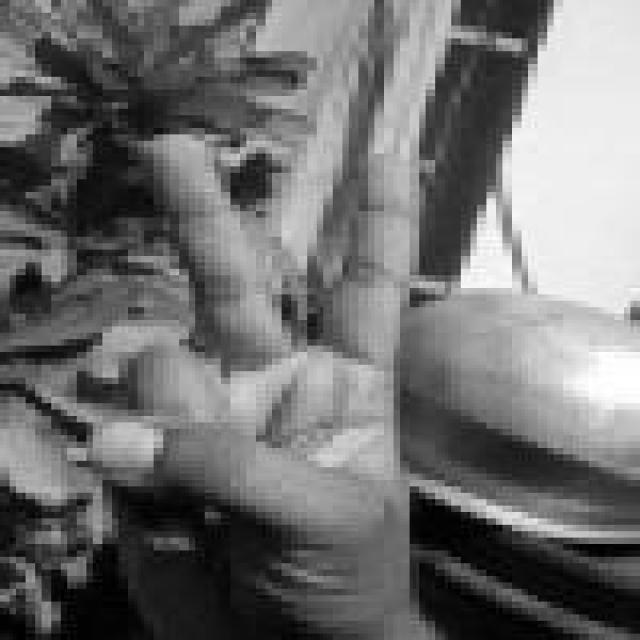V: (74, 125, 435, 640)
